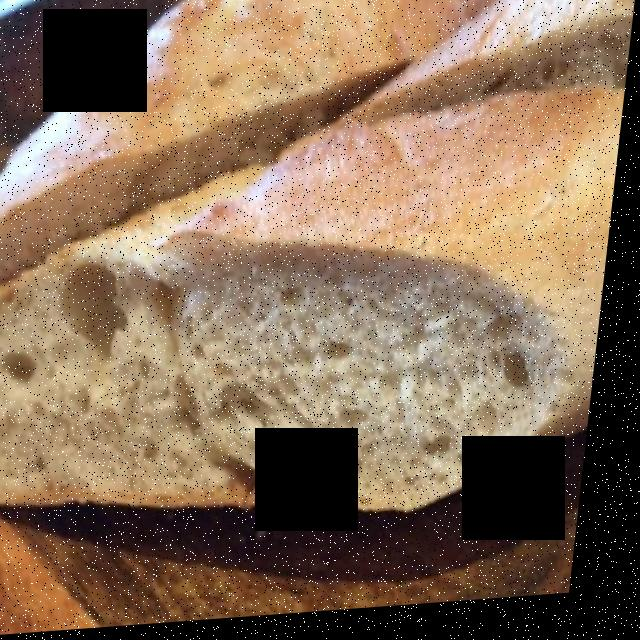bread-french-white-flour: (0, 0, 617, 477)
